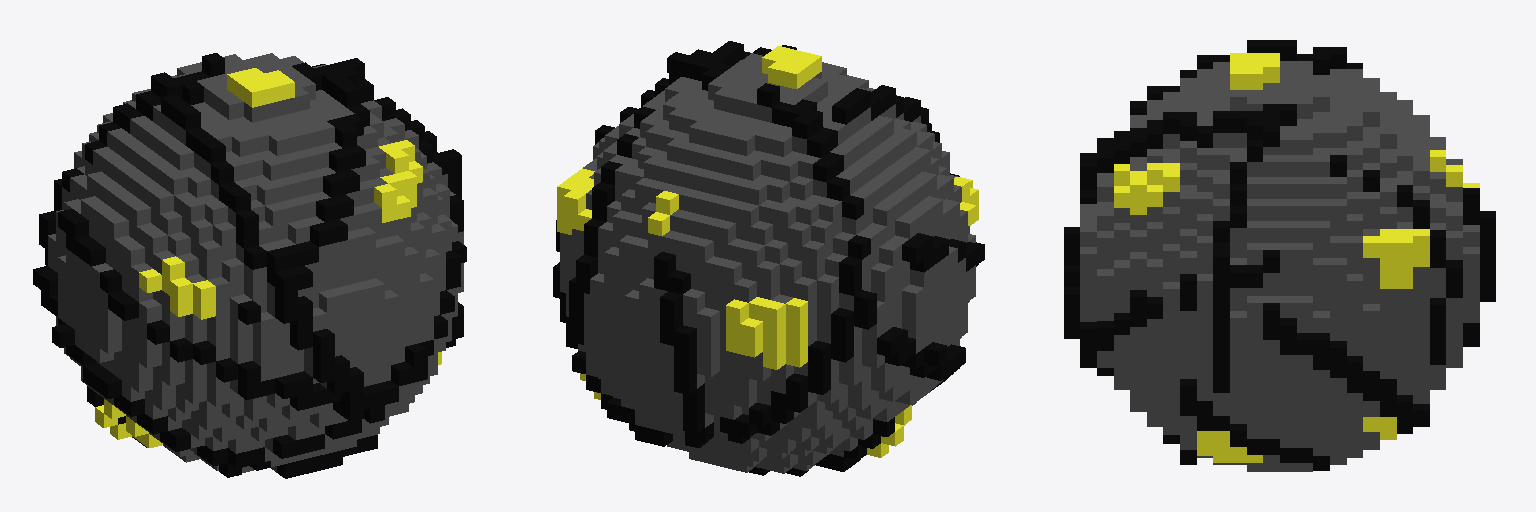
3 views of the same model, side by side, from view 1: azimuth 30°, elevation 25°; view 2: azimuth 150°, elevation 25°; view 3: azimuth 270°, elevation 25° (orthographic).
Parts seen in each view (by area): view 1: Model; view 2: Model; view 3: Model.
Boxes of the visible parts, x1,y1,x2,y2 form: Model: [33, 53, 466, 478]; Model: [553, 41, 984, 476]; Model: [1064, 40, 1495, 471].
Bounding box in the file's own units: 32 × 30.77 × 32.
1 materials, 1 textured.